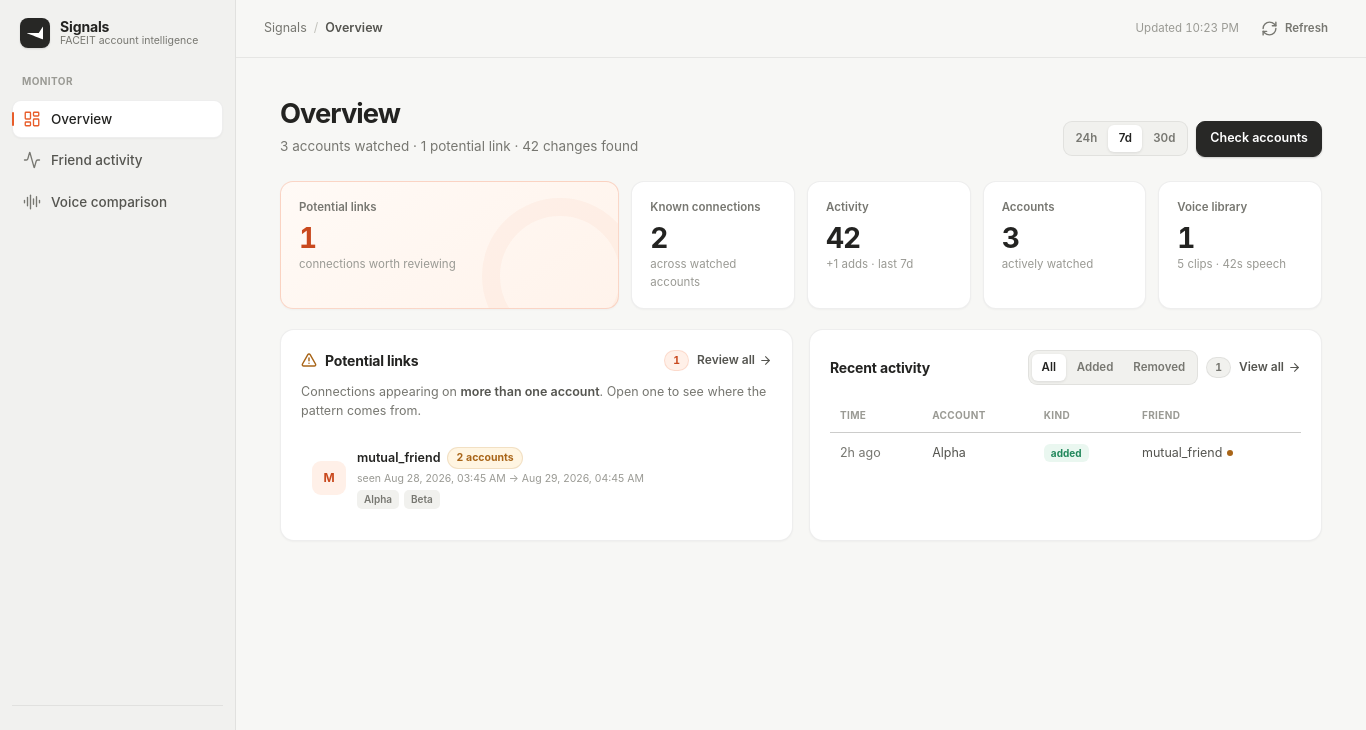
Test case: application routing › navigates to the friends monitor via the sidebar
Check: the header is shown, box [236,0,1365,58]
Click the link "Friend activity": (83, 160) [23,151,143,169]
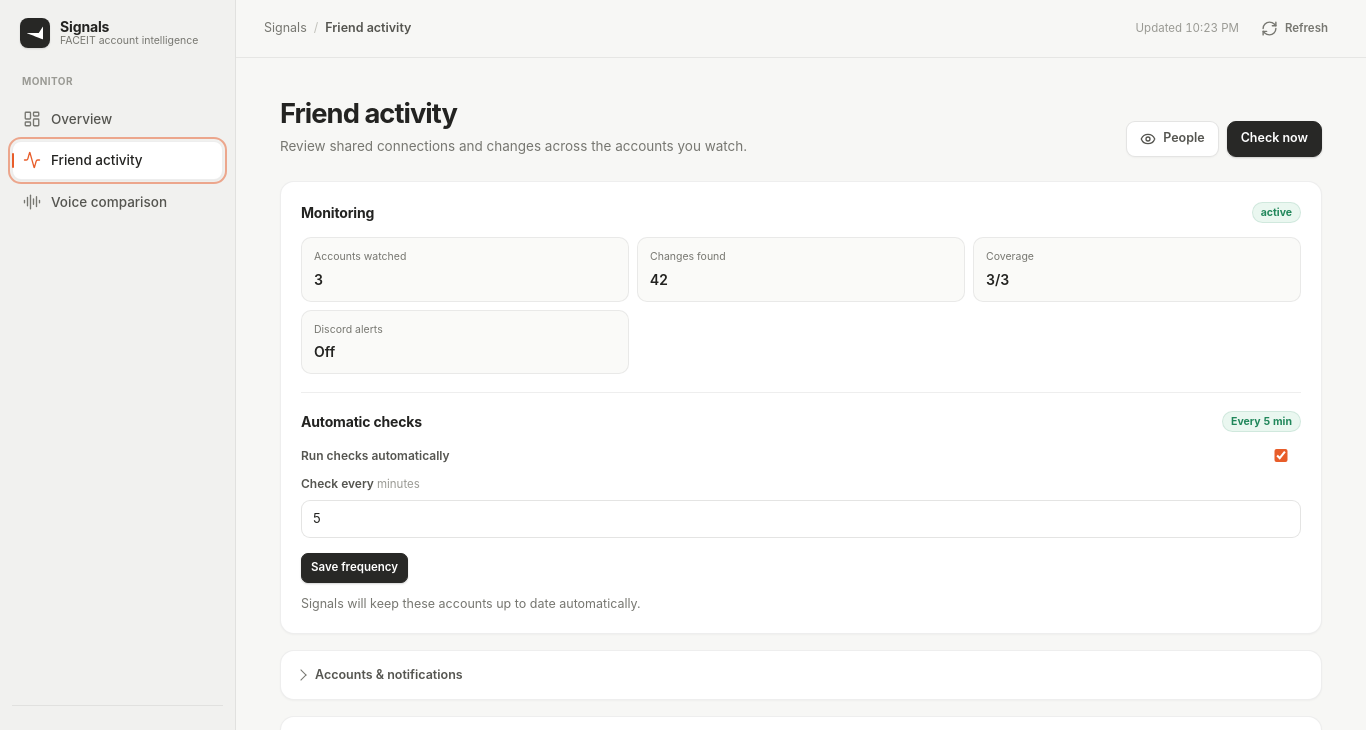
Check: the heading "Friend activity" is shown, box [280,97,457,130]
Check: the heading "Automatic checks" is shown, box [301,411,422,432]
